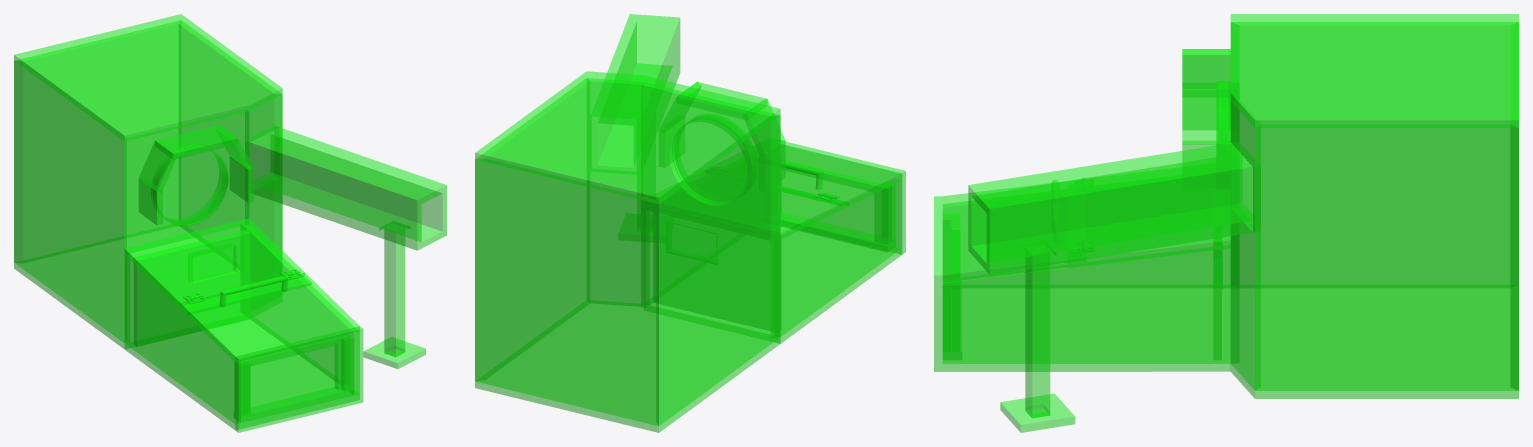
Rendered from justin.glb.
3 views of the same model, side by side, from view 1: azimuth 30°, elevation 25°; view 2: azimuth 150°, elevation 25°; view 3: azimuth 270°, elevation 25° (orthographic). The views are drawn at different scales.
Parts seen in each view (by area): view 1: Plywood, 168c3e25-6ce8-43e1-ad66-47d377c8f009, cec0c091-b9ef-4de7-b023-69ee54c62f23, a8b16d4e-21d0-4320-be44-0151ab445b24, 6781d93f-f70e-4b84-99aa-d4d6f4a48728, 5a6d0c97-d0df-4821-99ef-5a7b95f31991, 84101858-71dd-448f-a24b-0b46bd34b096, 97b4c6fb-5c7f-4266-91b3-b51597b7cfb8, 99e15a2b-d37d-4f33-aaf2-686d37a6c242, dd06f8e2-49b8-49b1-b2aa-2c6aa837d30f, 99f32fd3-94fc-4e75-b28c-4dff9a2c60c7, Lens (+6 smaller); view 2: Plywood, 168c3e25-6ce8-43e1-ad66-47d377c8f009, cec0c091-b9ef-4de7-b023-69ee54c62f23, 6781d93f-f70e-4b84-99aa-d4d6f4a48728, 5a6d0c97-d0df-4821-99ef-5a7b95f31991, 97b4c6fb-5c7f-4266-91b3-b51597b7cfb8, a8b16d4e-21d0-4320-be44-0151ab445b24, dd06f8e2-49b8-49b1-b2aa-2c6aa837d30f, a0b93272-a4bf-4a86-8733-96705c217758, Lens, 99e15a2b-d37d-4f33-aaf2-686d37a6c242, 84101858-71dd-448f-a24b-0b46bd34b096 (+3 smaller); view 3: Plywood, 6781d93f-f70e-4b84-99aa-d4d6f4a48728, cec0c091-b9ef-4de7-b023-69ee54c62f23, 99f32fd3-94fc-4e75-b28c-4dff9a2c60c7, a8b16d4e-21d0-4320-be44-0151ab445b24, 97b4c6fb-5c7f-4266-91b3-b51597b7cfb8, a0b93272-a4bf-4a86-8733-96705c217758, 99e15a2b-d37d-4f33-aaf2-686d37a6c242, 168c3e25-6ce8-43e1-ad66-47d377c8f009, 84101858-71dd-448f-a24b-0b46bd34b096, 5a6d0c97-d0df-4821-99ef-5a7b95f31991, 84e8176b-8da5-416d-963c-bd6de3734ef2 (+3 smaller).
Boxes of the visible parts, <box> form: Plywood: <box>14,14,405,432</box>; 168c3e25-6ce8-43e1-ad66-47d377c8f009: <box>14,20,180,263</box>; cec0c091-b9ef-4de7-b023-69ee54c62f23: <box>14,61,126,342</box>; a8b16d4e-21d0-4320-be44-0151ab445b24: <box>249,126,446,250</box>; 6781d93f-f70e-4b84-99aa-d4d6f4a48728: <box>179,20,282,249</box>; 5a6d0c97-d0df-4821-99ef-5a7b95f31991: <box>124,109,249,342</box>; 84101858-71dd-448f-a24b-0b46bd34b096: <box>124,218,311,315</box>; 97b4c6fb-5c7f-4266-91b3-b51597b7cfb8: <box>124,254,240,423</box>; 99e15a2b-d37d-4f33-aaf2-686d37a6c242: <box>180,273,359,362</box>; dd06f8e2-49b8-49b1-b2aa-2c6aa837d30f: <box>134,230,249,346</box>; 99f32fd3-94fc-4e75-b28c-4dff9a2c60c7: <box>244,225,359,394</box>; Lens: <box>157,149,233,279</box>; Plywood: <box>475,71,905,432</box>; 168c3e25-6ce8-43e1-ad66-47d377c8f009: <box>475,159,658,425</box>; cec0c091-b9ef-4de7-b023-69ee54c62f23: <box>656,115,780,425</box>; 6781d93f-f70e-4b84-99aa-d4d6f4a48728: <box>475,78,589,380</box>; 5a6d0c97-d0df-4821-99ef-5a7b95f31991: <box>641,82,780,337</box>; 97b4c6fb-5c7f-4266-91b3-b51597b7cfb8: <box>780,179,902,336</box>; a8b16d4e-21d0-4320-be44-0151ab445b24: <box>590,14,680,174</box>; dd06f8e2-49b8-49b1-b2aa-2c6aa837d30f: <box>653,212,781,330</box>; a0b93272-a4bf-4a86-8733-96705c217758: <box>587,78,642,306</box>; Lens: <box>666,122,747,264</box>; 99e15a2b-d37d-4f33-aaf2-686d37a6c242: <box>780,144,902,205</box>; 84101858-71dd-448f-a24b-0b46bd34b096: <box>780,186,849,239</box>; Plywood: <box>934,14,1518,417</box>; 6781d93f-f70e-4b84-99aa-d4d6f4a48728: <box>1255,124,1518,390</box>; cec0c091-b9ef-4de7-b023-69ee54c62f23: <box>1231,22,1517,287</box>; 99f32fd3-94fc-4e75-b28c-4dff9a2c60c7: <box>942,245,1230,363</box>; a8b16d4e-21d0-4320-be44-0151ab445b24: <box>968,142,1256,274</box>; 97b4c6fb-5c7f-4266-91b3-b51597b7cfb8: <box>943,201,1230,287</box>; a0b93272-a4bf-4a86-8733-96705c217758: <box>1230,101,1260,390</box>; 99e15a2b-d37d-4f33-aaf2-686d37a6c242: <box>942,182,1085,282</box>; 168c3e25-6ce8-43e1-ad66-47d377c8f009: <box>1510,22,1518,390</box>; 84101858-71dd-448f-a24b-0b46bd34b096: <box>1068,224,1230,267</box>; 5a6d0c97-d0df-4821-99ef-5a7b95f31991: <box>1231,22,1239,363</box>; 84e8176b-8da5-416d-963c-bd6de3734ef2: <box>1000,393,1075,432</box>.
Size of the model in its own units: 357 by 318 by 605.
